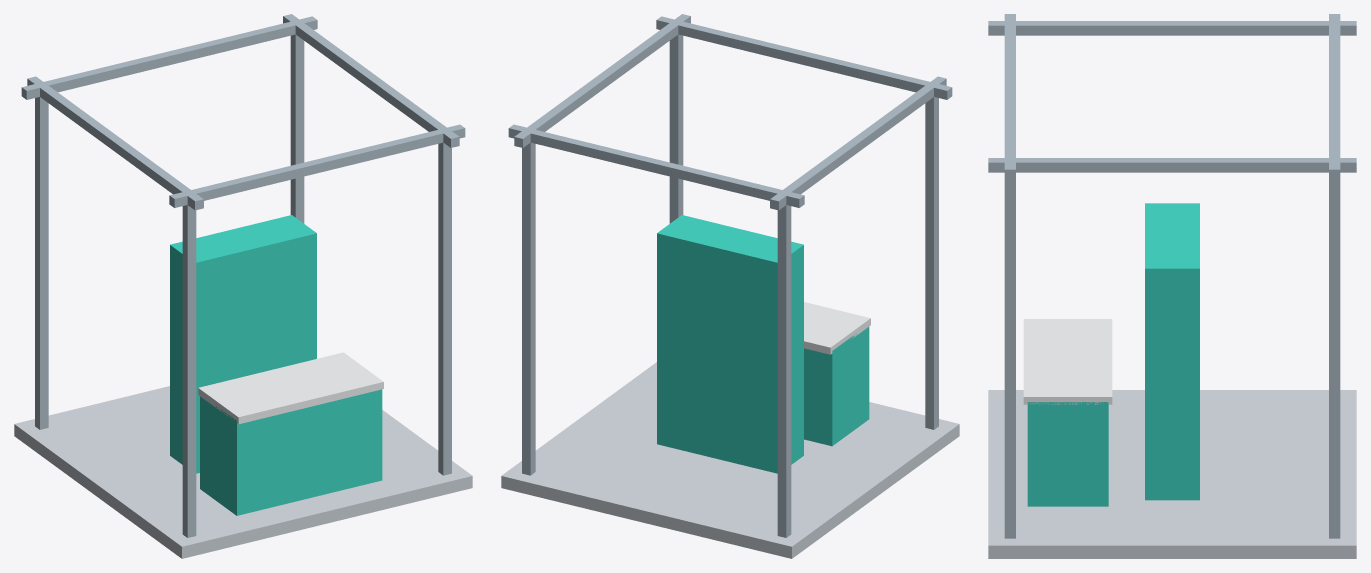
3 views of the same model, side by side, from view 1: azimuth 30°, elevation 25°; view 2: azimuth 150°, elevation 25°; view 3: azimuth 270°, elevation 25° (orthographic). The views are drawn at different scales.
Visible parts, largest first — view 1: Exhibition Booth Concept; view 2: Exhibition Booth Concept; view 3: Exhibition Booth Concept.
Part boxes in pixels (left/top/right/bottom): Exhibition Booth Concept: left=14, top=14, right=472, bottom=558; Exhibition Booth Concept: left=501, top=14, right=959, bottom=558; Exhibition Booth Concept: left=988, top=14, right=1356, bottom=558.
Bounding box in the file's own units: 3 × 3.49 × 3.
